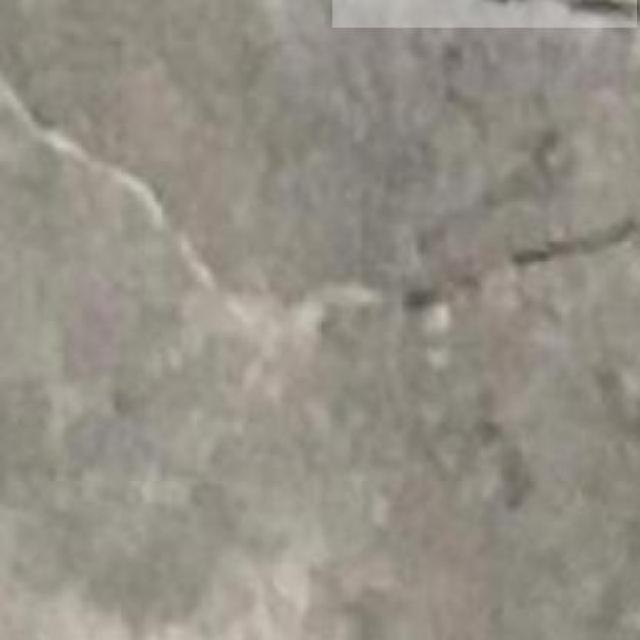crack: (0, 62, 640, 320)
